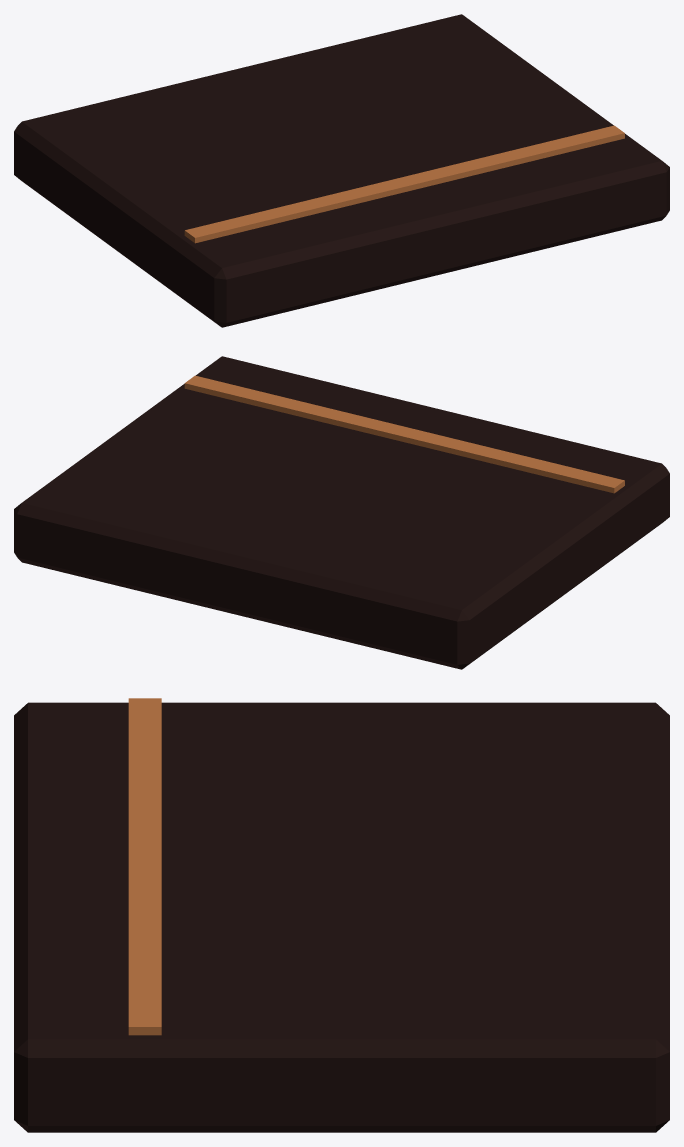
File: Deck_S_Frag_plate_a.glb
The picture shows the model from 3 angles, top to bottom: view 1: azimuth 30°, elevation 25°; view 2: azimuth 150°, elevation 25°; view 3: azimuth 270°, elevation 25°; orthographic projection. The views are drawn at different scales.
Parts seen in each view (by area): view 1: CP_Deck_S_Frag_plate_a; view 2: CP_Deck_S_Frag_plate_a; view 3: CP_Deck_S_Frag_plate_a.
Boxes of the visible parts, x1,y1,x2,y2 form: CP_Deck_S_Frag_plate_a: (14, 14, 669, 327); CP_Deck_S_Frag_plate_a: (14, 356, 669, 669); CP_Deck_S_Frag_plate_a: (14, 698, 669, 1132).
Size of the model in its own units: 1.76 by 0.24 by 1.4.
